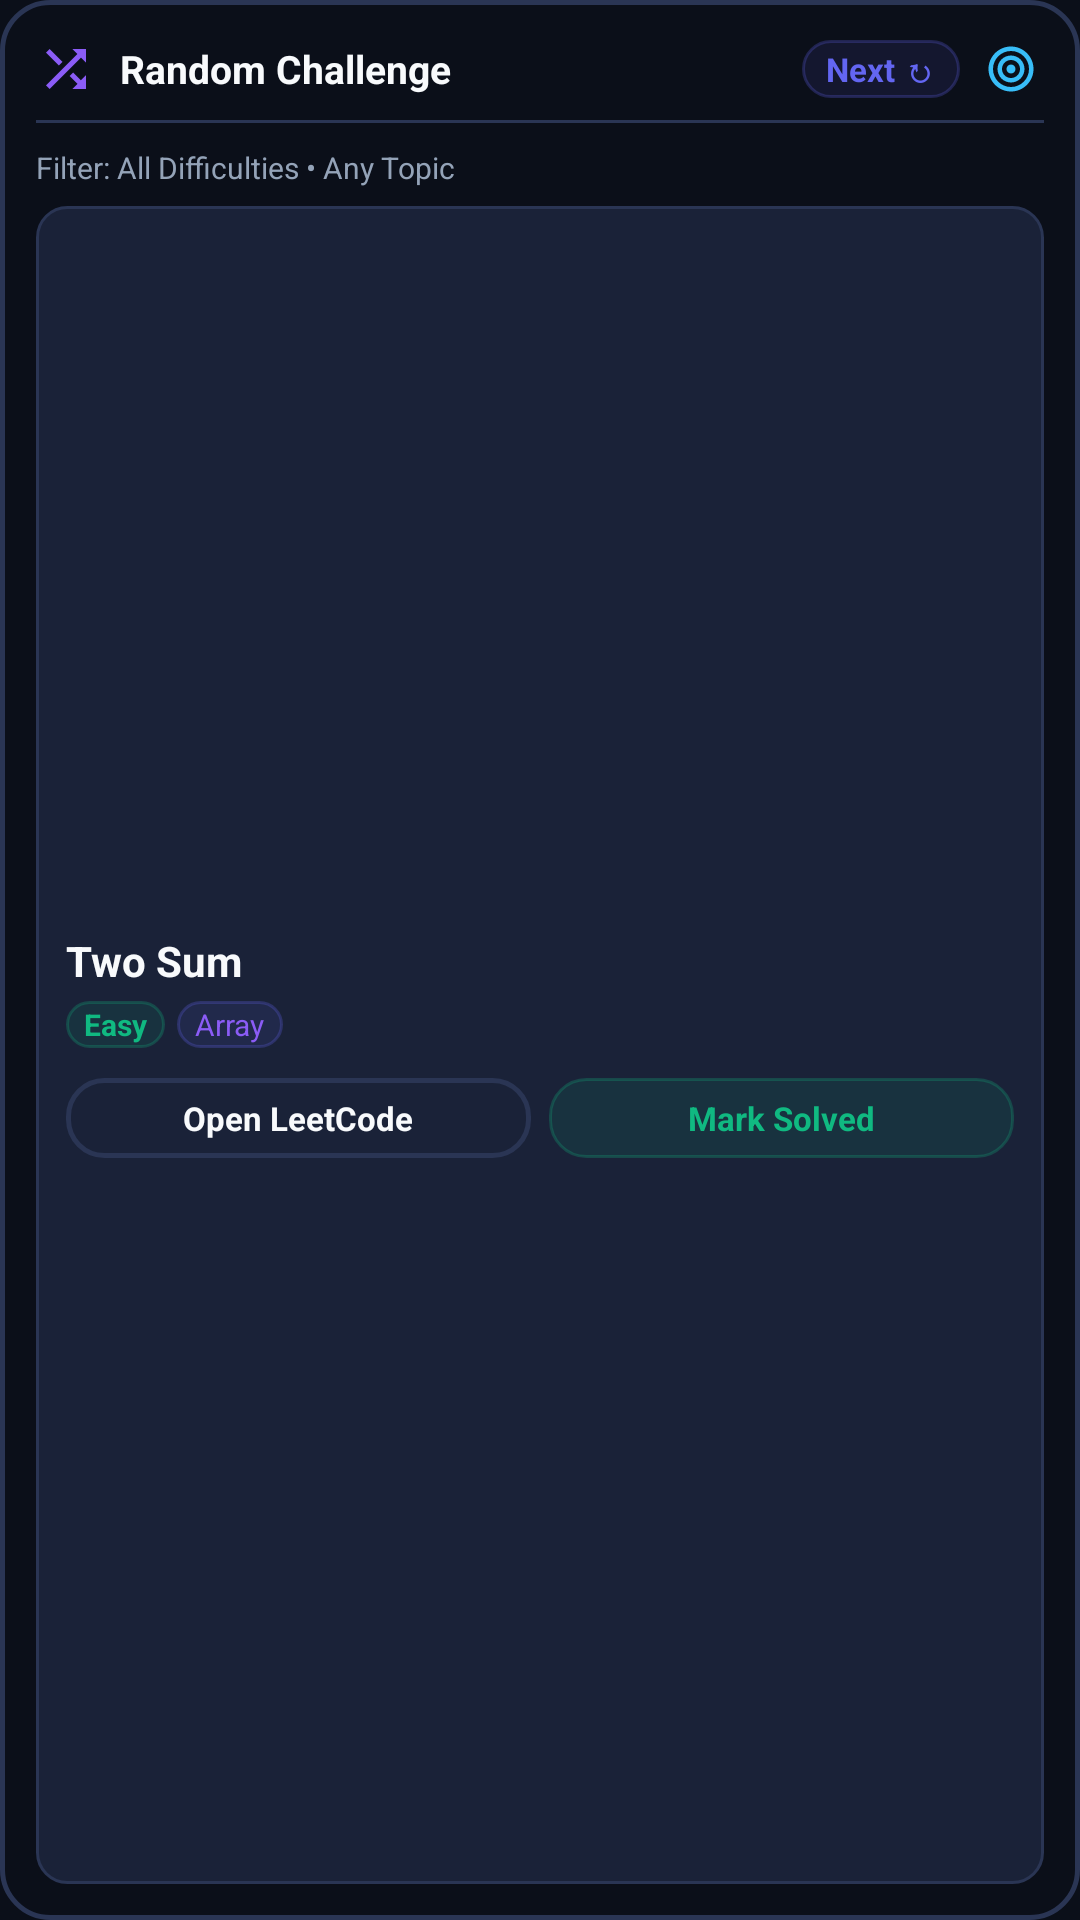

Named icons in this screenshot (1080w x 1920h) and their centers, (x=x, y=y):
shuffle: (x=66, y=69)
